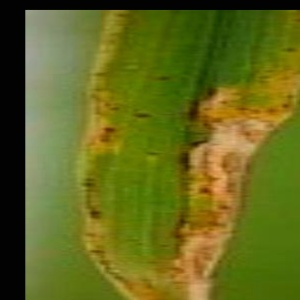Leaf_Blast: (88, 16, 282, 300)
